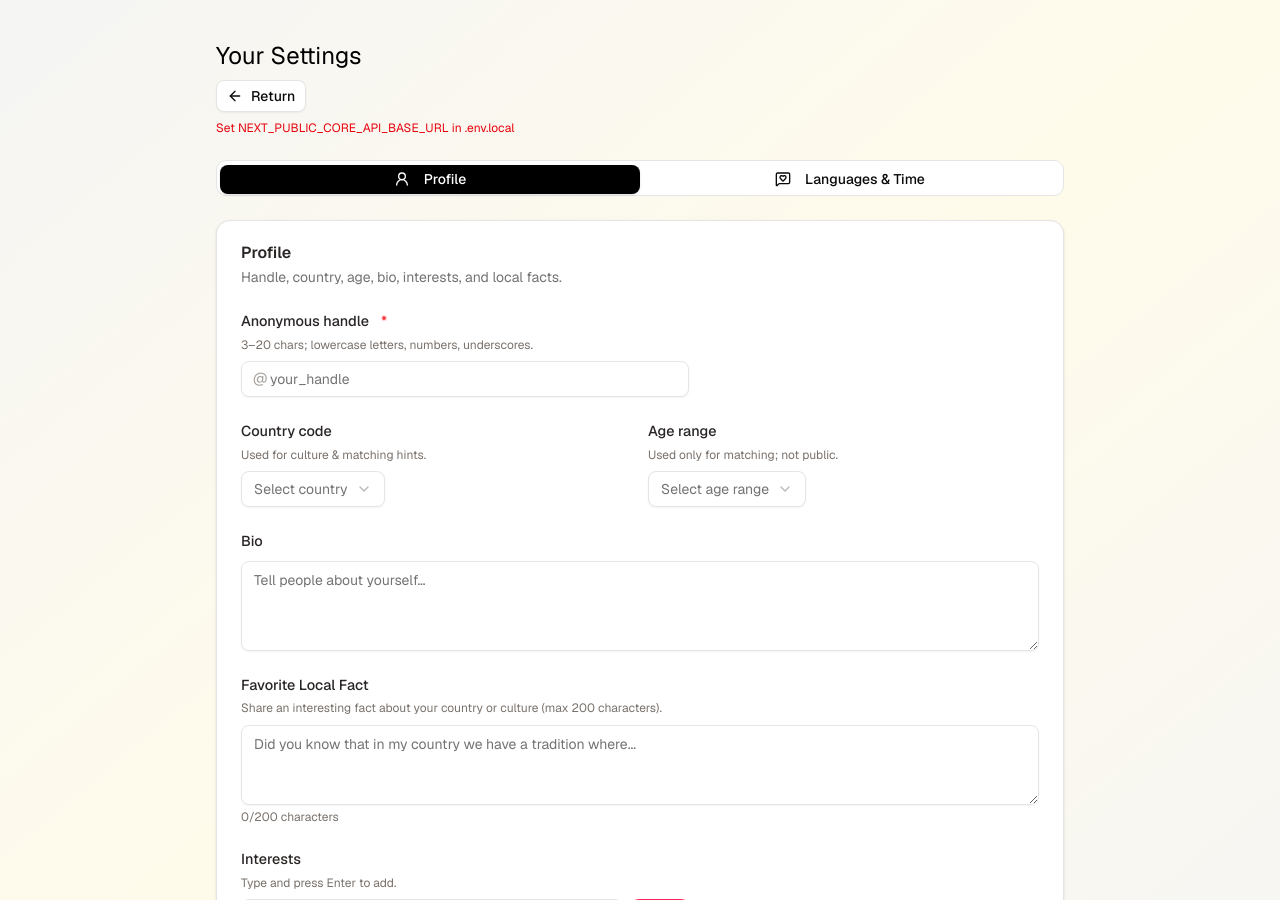
Test: Settings Page – integration › PUT 409 (handle taken) → surface server validation
The width and height of the screenshot is (1280, 900).
Type "taken_handle" into the field named "anonymous handle" at (465, 379), box [241,361,689,397]
(page scrolled)
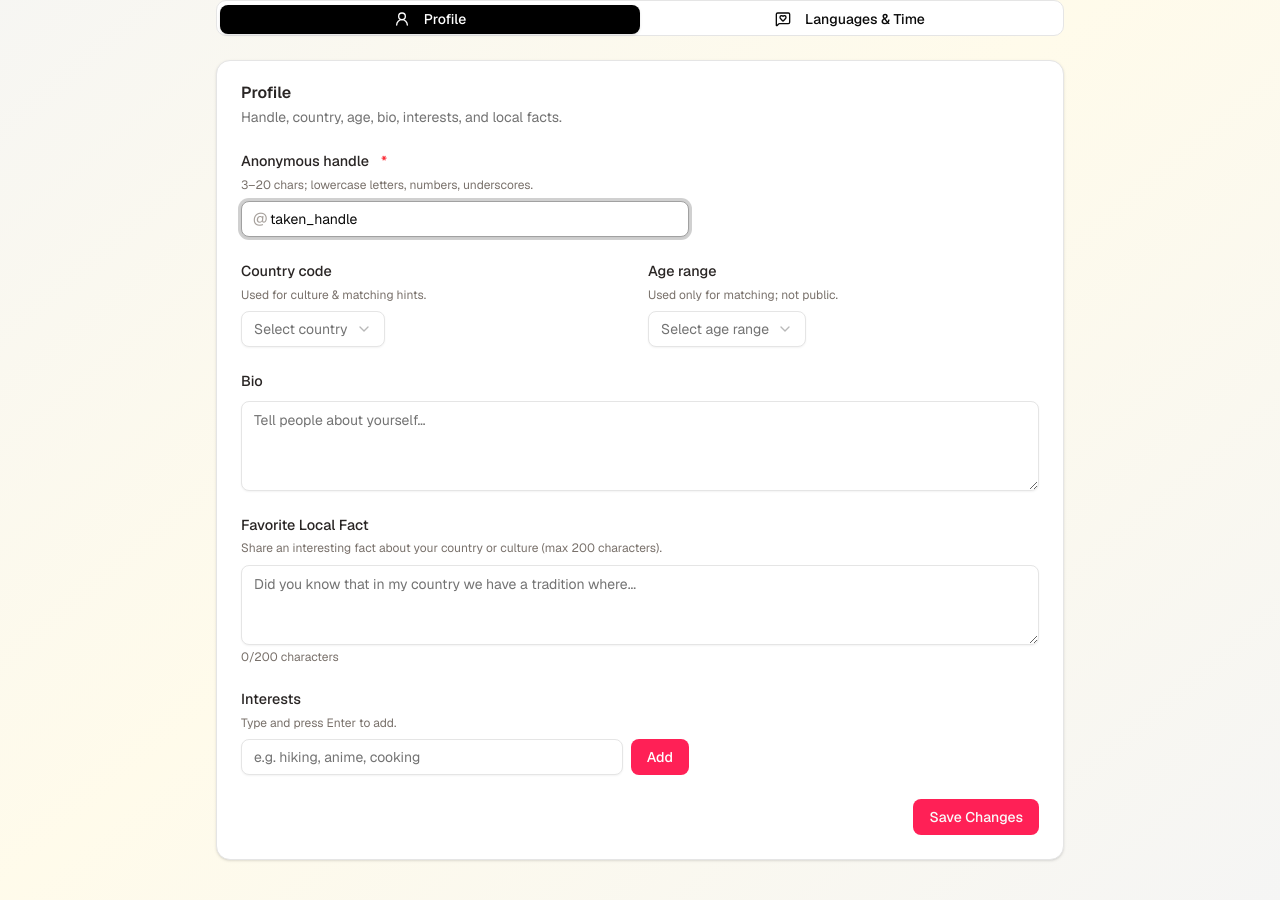
Click the button "Save Changes" at (976, 817), box [913,799,1039,835]
(page scrolled)
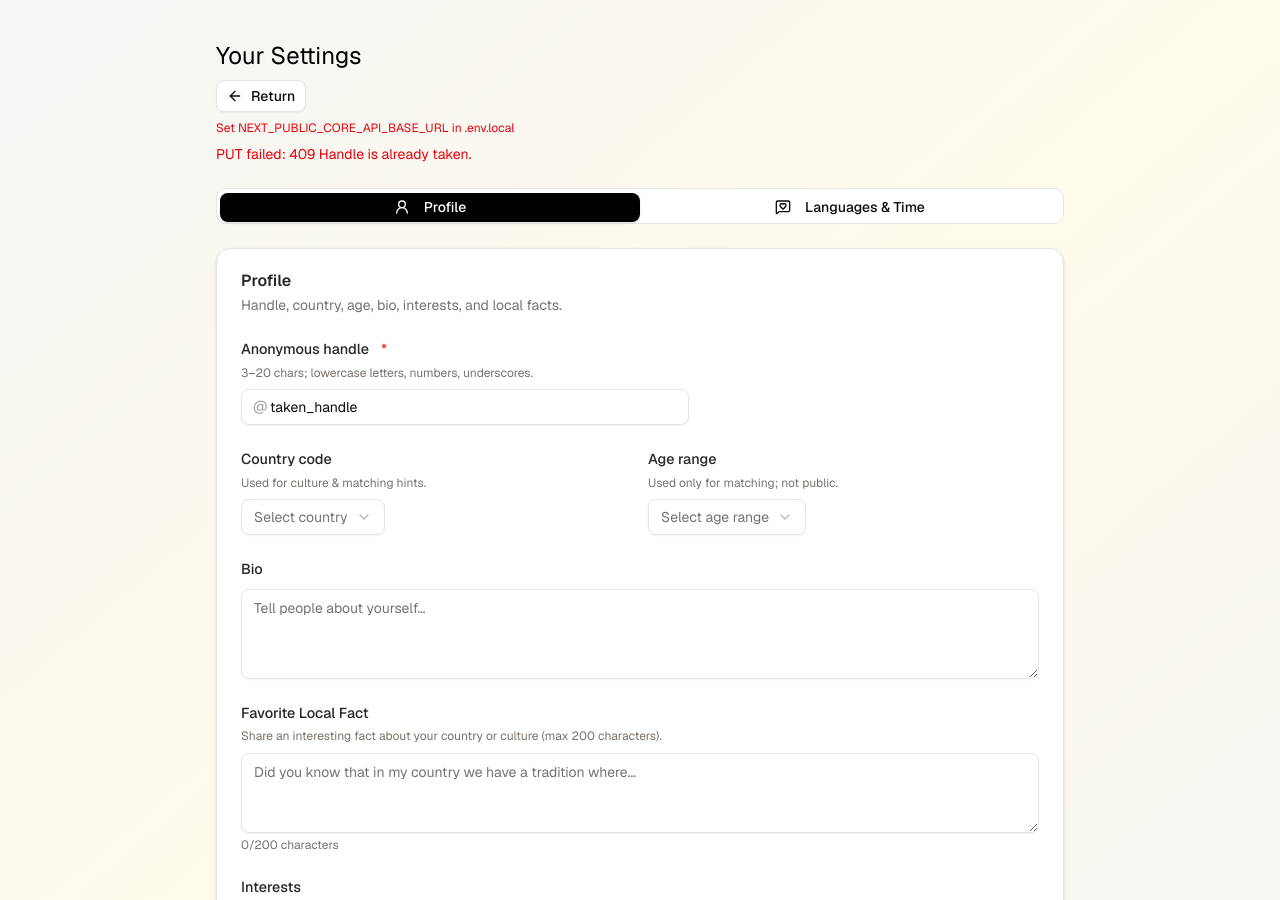
Result: the text "PUT failed: 409 Handle is already taken." is shown at [216,145,472,163]
